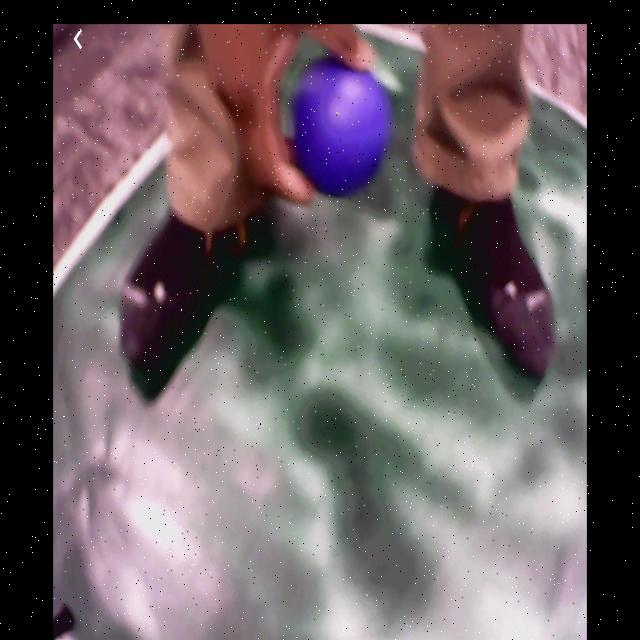ball: (292, 55, 390, 195)
